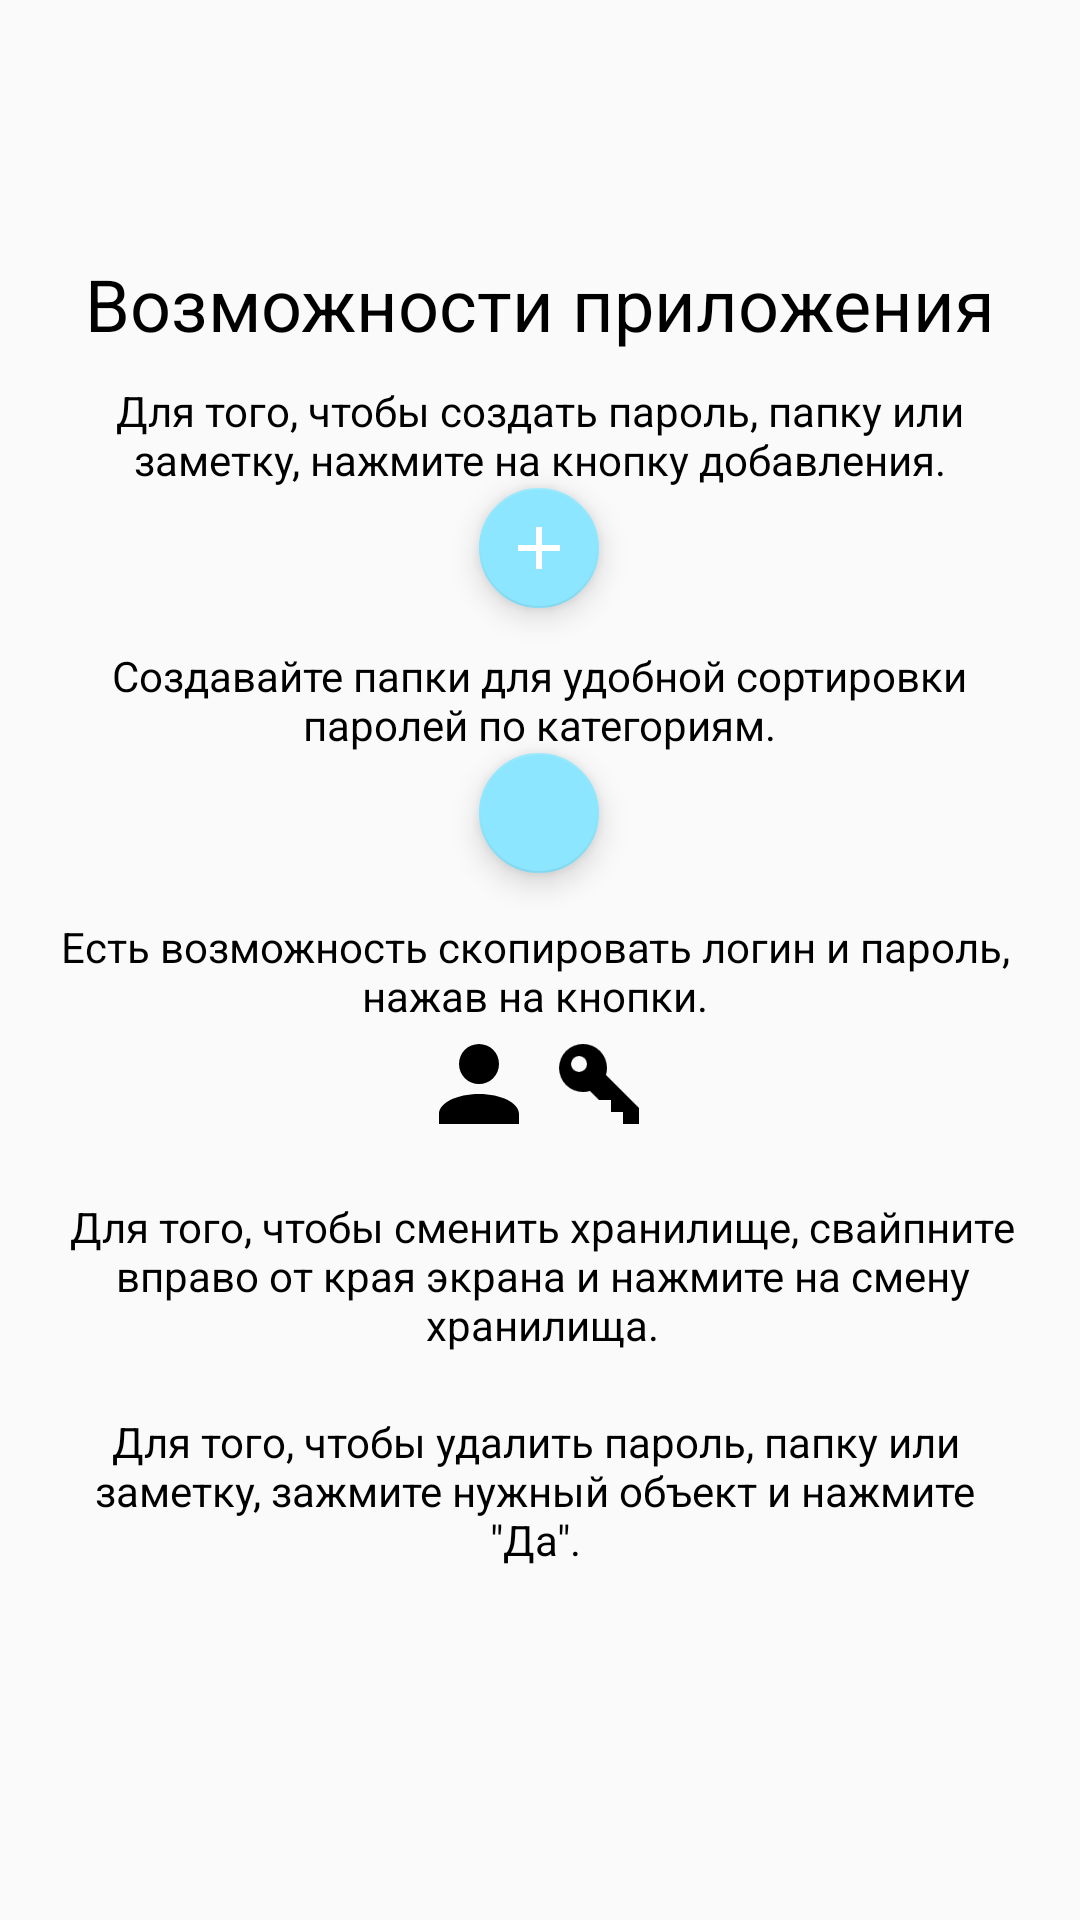

Locate icon controls on the screen. Image size 1080 × 1920, boxes as [left=x1, top=y1, right=x2, bottom=y2].
login: [left=439, top=1044, right=519, bottom=1124]
plus: [left=479, top=488, right=599, bottom=608]
